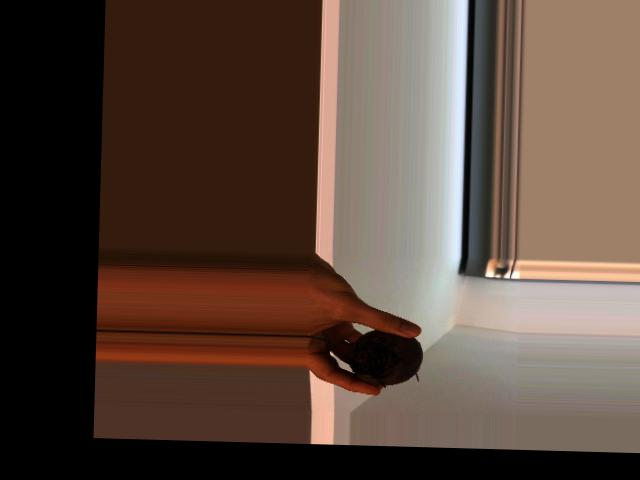beet: (306, 326, 424, 388)
